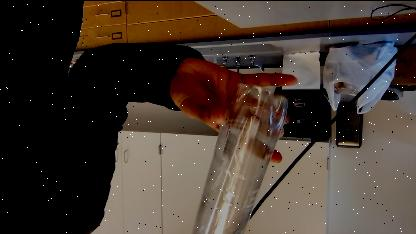Plastic Bottle: (182, 78, 286, 234)
